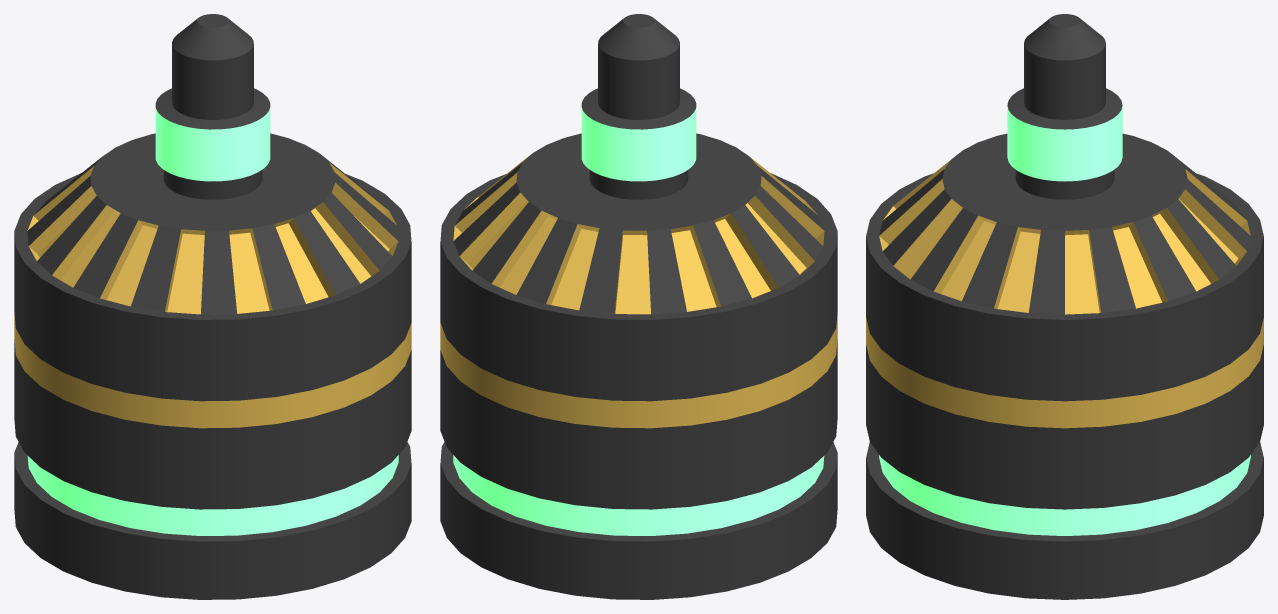
File: powercell 1.fbx
3 views of the same model, side by side, from view 1: azimuth 30°, elevation 25°; view 2: azimuth 150°, elevation 25°; view 3: azimuth 270°, elevation 25° (orthographic).
Visible parts, largest first — view 1: Cylinder.001; view 2: Cylinder.001; view 3: Cylinder.001.
Part boxes in pixels (left/top/right/bottom): Cylinder.001: left=14, top=14, right=411, bottom=599; Cylinder.001: left=440, top=14, right=837, bottom=599; Cylinder.001: left=866, top=14, right=1263, bottom=599.
Size of the model in its own units: 214 by 294 by 214.
